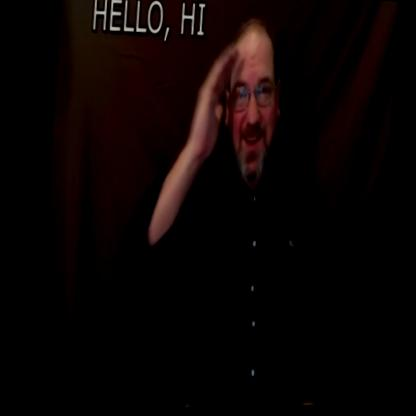Hello: (166, 0, 306, 259)
